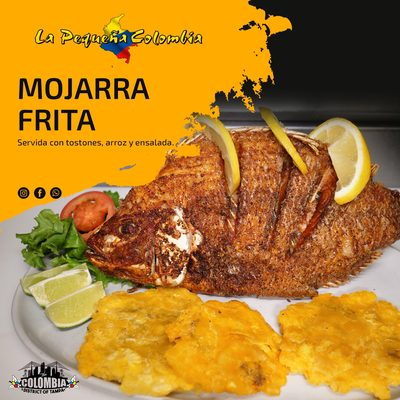taco: (308, 116, 372, 206), (45, 282, 106, 330)
